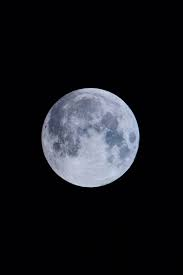moon: (35, 82, 145, 192)
